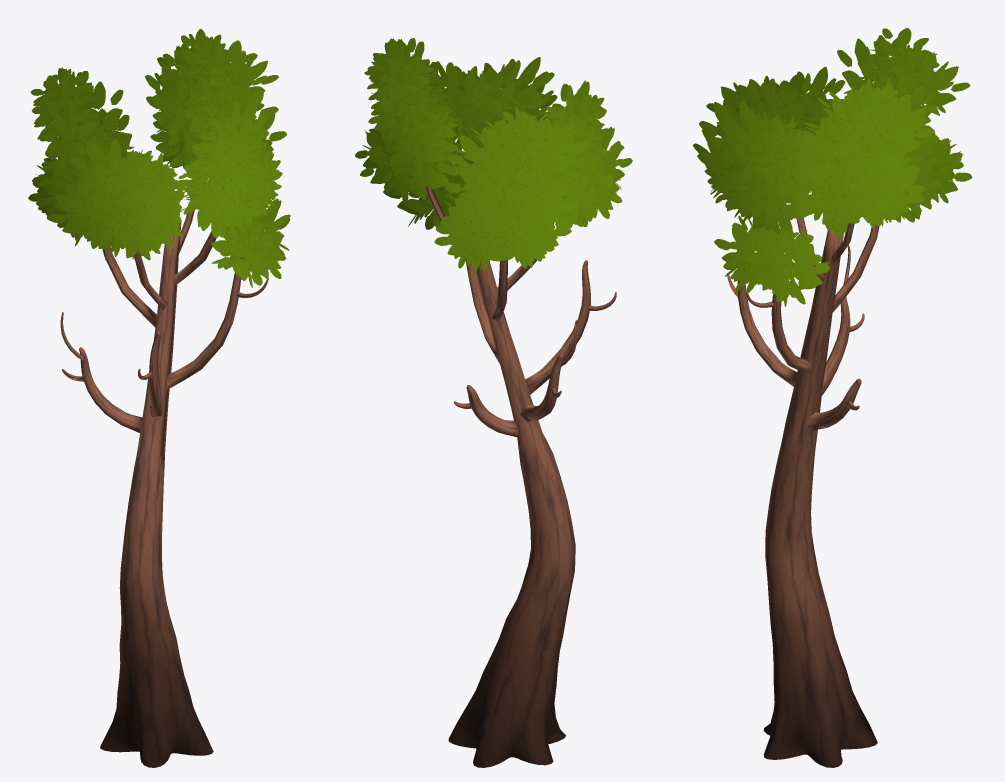
3 renders of one model, left to right at view 1: azimuth 30°, elevation 25°; view 2: azimuth 150°, elevation 25°; view 3: azimuth 270°, elevation 25°, orthographic. The views are drawn at different scales.
Visible parts, largest first — view 1: CommonTree_4; view 2: CommonTree_4; view 3: CommonTree_4.
Boxes of the visible parts, x1,y1,x2,y2 form: CommonTree_4: [28, 29, 290, 767]; CommonTree_4: [355, 38, 632, 767]; CommonTree_4: [693, 28, 972, 767].
Bounding box in the file's own units: 3.83 × 9.44 × 3.76.
2 materials, 2 textured.
